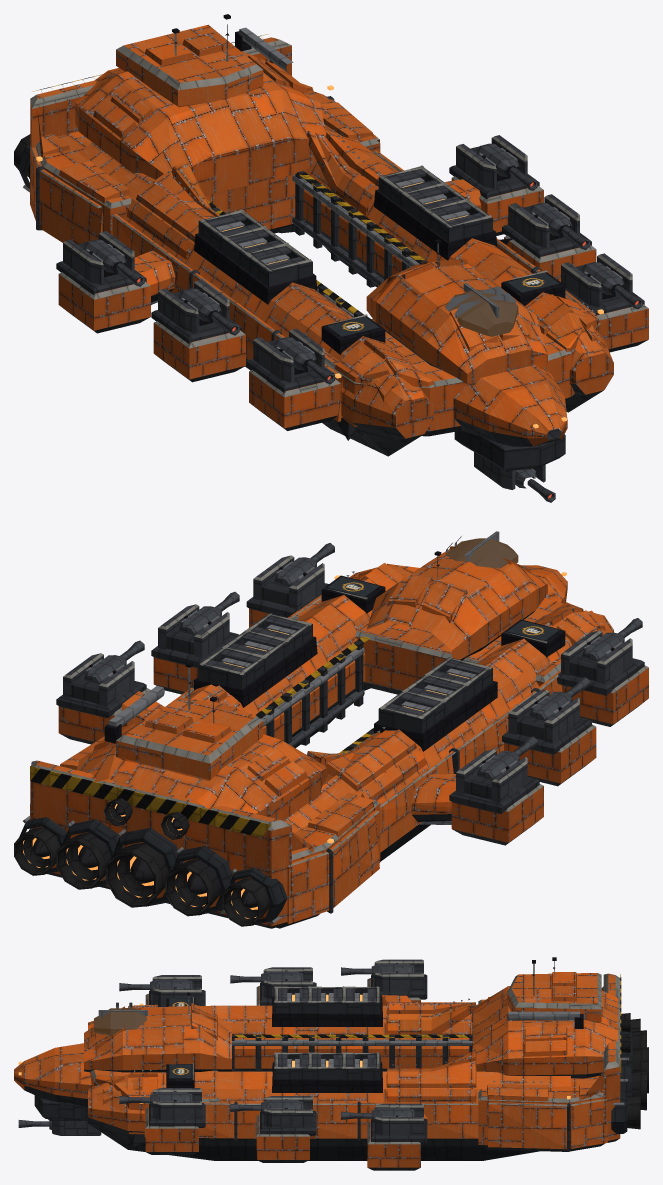
File: saturn-schiff4.glb
3 views of the same model, one above another, from view 1: azimuth 30°, elevation 25°; view 2: azimuth 150°, elevation 25°; view 3: azimuth 270°, elevation 25° (orthographic). The views are drawn at different scales.
Visible parts, largest first — view 1: Hull_LOD0, Laser_03, Laser_02, Laser_04, Laser_05, Laser_01, Laser_06; view 2: Hull_LOD0, Laser_04, Laser_01, Laser_03, Laser_05, Laser_02, Laser_06, Faction_Insignia_Left, Insignia_ClanSlot_Right; view 3: Hull_LOD0, Laser_04, Laser_06, Laser_02, Laser_01, Laser_05, Laser_03, Faction_Insignia_Left.
Boxes of the visible parts, x1=… form: Hull_LOD0: x1=14, y1=14, x2=648, y2=489; Laser_03: x1=529, y1=203, x2=590, y2=250; Laser_02: x1=274, y1=337, x2=334, y2=384; Laser_04: x1=179, y1=288, x2=239, y2=335; Laser_05: x1=477, y1=143, x2=537, y2=190; Laser_01: x1=582, y1=262, x2=642, y2=309; Laser_06: x1=84, y1=239, x2=144, y2=286; Hull_LOD0: x1=14, y1=531, x2=648, y2=928; Laser_04: x1=529, y1=677, x2=590, y2=720; Laser_01: x1=274, y1=543, x2=334, y2=586; Laser_03: x1=179, y1=591, x2=239, y2=635; Laser_05: x1=84, y1=640, x2=144, y2=683; Laser_02: x1=582, y1=618, x2=642, y2=661; Laser_06: x1=477, y1=736, x2=537, y2=779; Faction_Insignia_Left: x1=327, y1=577, x2=379, y2=596; Insignia_ClanSlot_Right: x1=507, y1=620, x2=559, y2=640; Hull_LOD0: x1=14, y1=957, x2=648, y2=1170; Laser_04: x1=230, y1=970, x2=303, y2=985; Laser_06: x1=341, y1=963, x2=414, y2=977; Laser_02: x1=119, y1=978, x2=192, y2=993; Laser_01: x1=119, y1=1091, x2=192, y2=1106; Laser_05: x1=341, y1=1107, x2=414, y2=1122; Laser_03: x1=230, y1=1099, x2=303, y2=1114; Faction_Insignia_Left: x1=169, y1=1064, x2=191, y2=1078.
Bounding box in the file's own units: 38 × 18.86 × 61.8.
6 materials, 4 textured.
